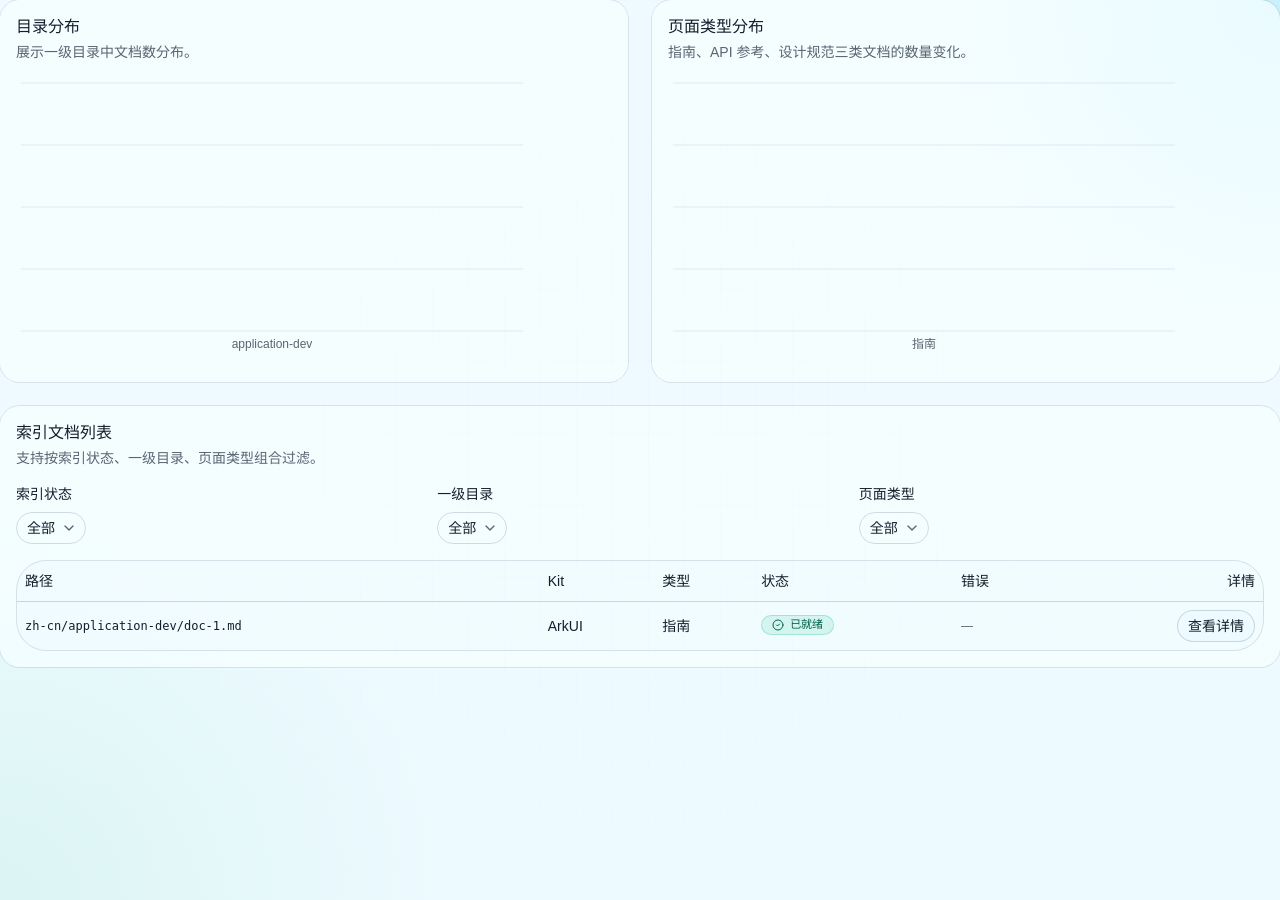
Test case: IndexExplorerPage › 展示文档只读详情且不提供保存入口
Click the button "查看详情".
click(1216, 626)  # box [1177,610,1255,642]
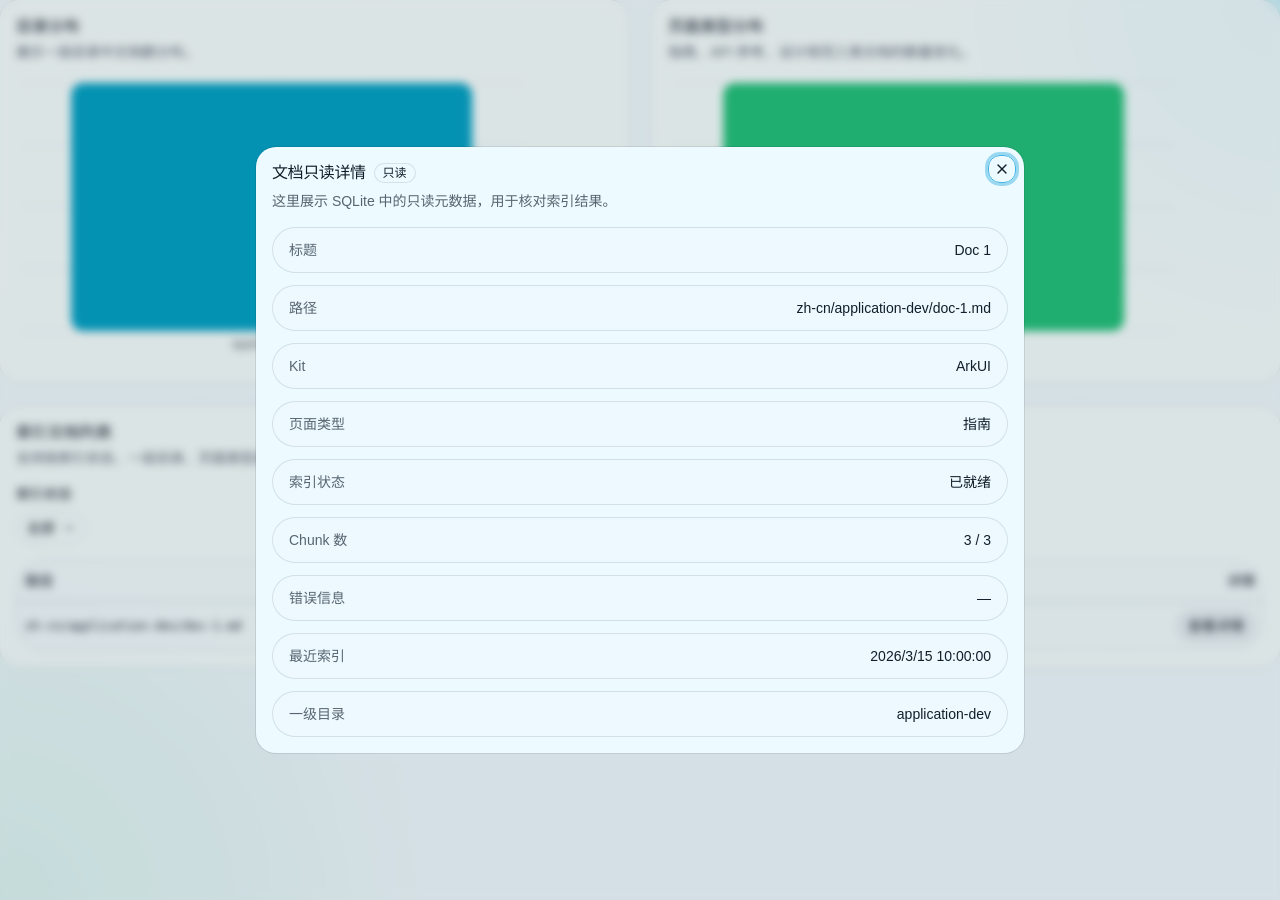
Expected: the heading "文档只读详情" is shown, [272,165,366,181]
Expected: the text "Doc 1" is shown, [954,240,991,260]
Expected: the icon "只读" is shown, [374,163,416,183]
